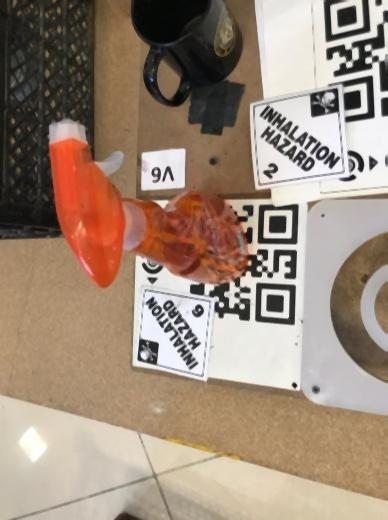poison: (253, 82, 349, 187), (135, 287, 216, 379)
